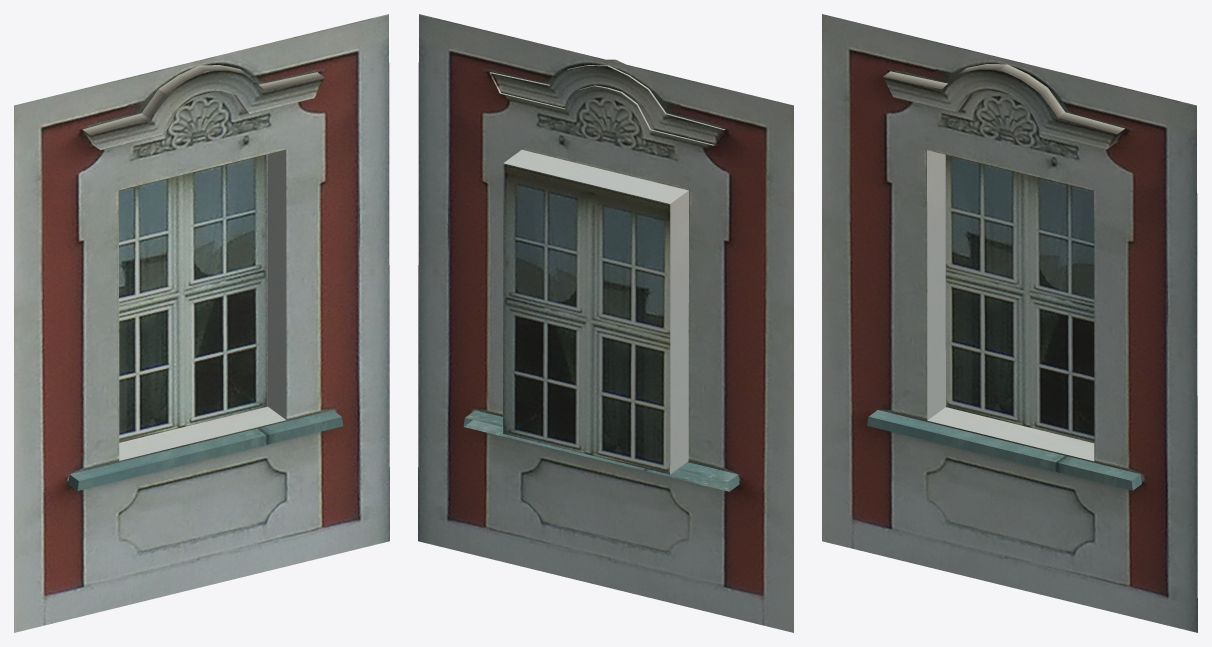
The model's file is fenster1.obj.
The picture shows the model from 3 angles, left to right: view 1: azimuth 30°, elevation 25°; view 2: azimuth 150°, elevation 25°; view 3: azimuth 330°, elevation 25°; orthographic projection.
Visible parts, largest first — view 1: polySurface52; view 2: polySurface52; view 3: polySurface52.
Boxes of the visible parts, x1,y1,x2,y2 form: polySurface52: (14,14,389,632); polySurface52: (418,14,793,632); polySurface52: (822,14,1197,632).
Bounding box in the file's own units: 0.3729 × 0.5 × 0.0478.
1 material, 1 textured.
